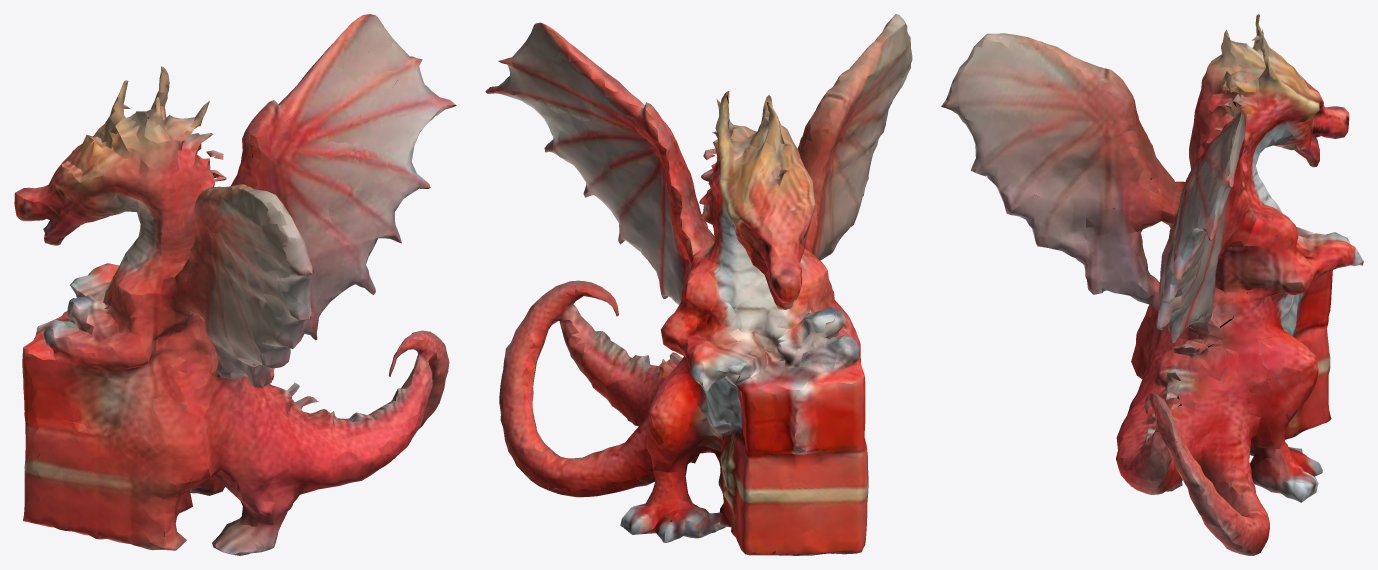
3 views of the same model, side by side, from view 1: azimuth 30°, elevation 25°; view 2: azimuth 150°, elevation 25°; view 3: azimuth 270°, elevation 25° (orthographic). The views are drawn at different scales.
Parts seen in each view (by area): view 1: world; view 2: world; view 3: world.
Part boxes in pixels (box(x1,y1,x2,y2)): world: box(14, 14, 456, 555); world: box(485, 14, 912, 555); world: box(941, 14, 1363, 555).
Size of the model in its own units: 0.797 by 0.8681 by 0.7333.
1 material, 1 textured.
